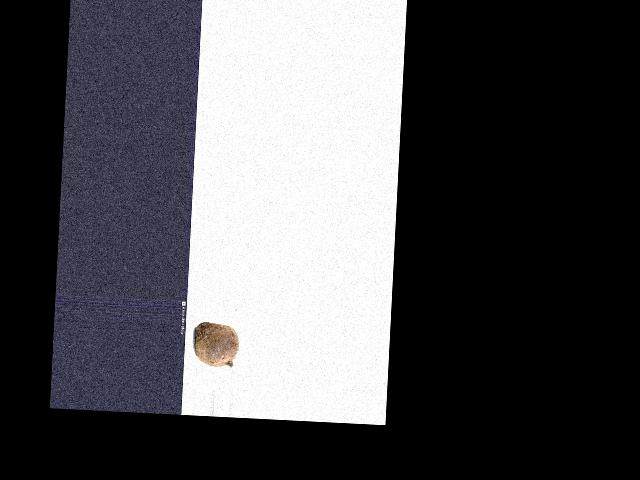beet: (192, 322, 239, 368)
